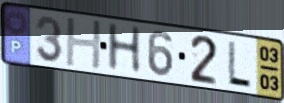2: (189, 33, 220, 87)
3: (33, 14, 64, 64)
6: (146, 29, 175, 79)
H: (64, 17, 104, 71), (105, 21, 144, 75)
L: (225, 39, 253, 91)
